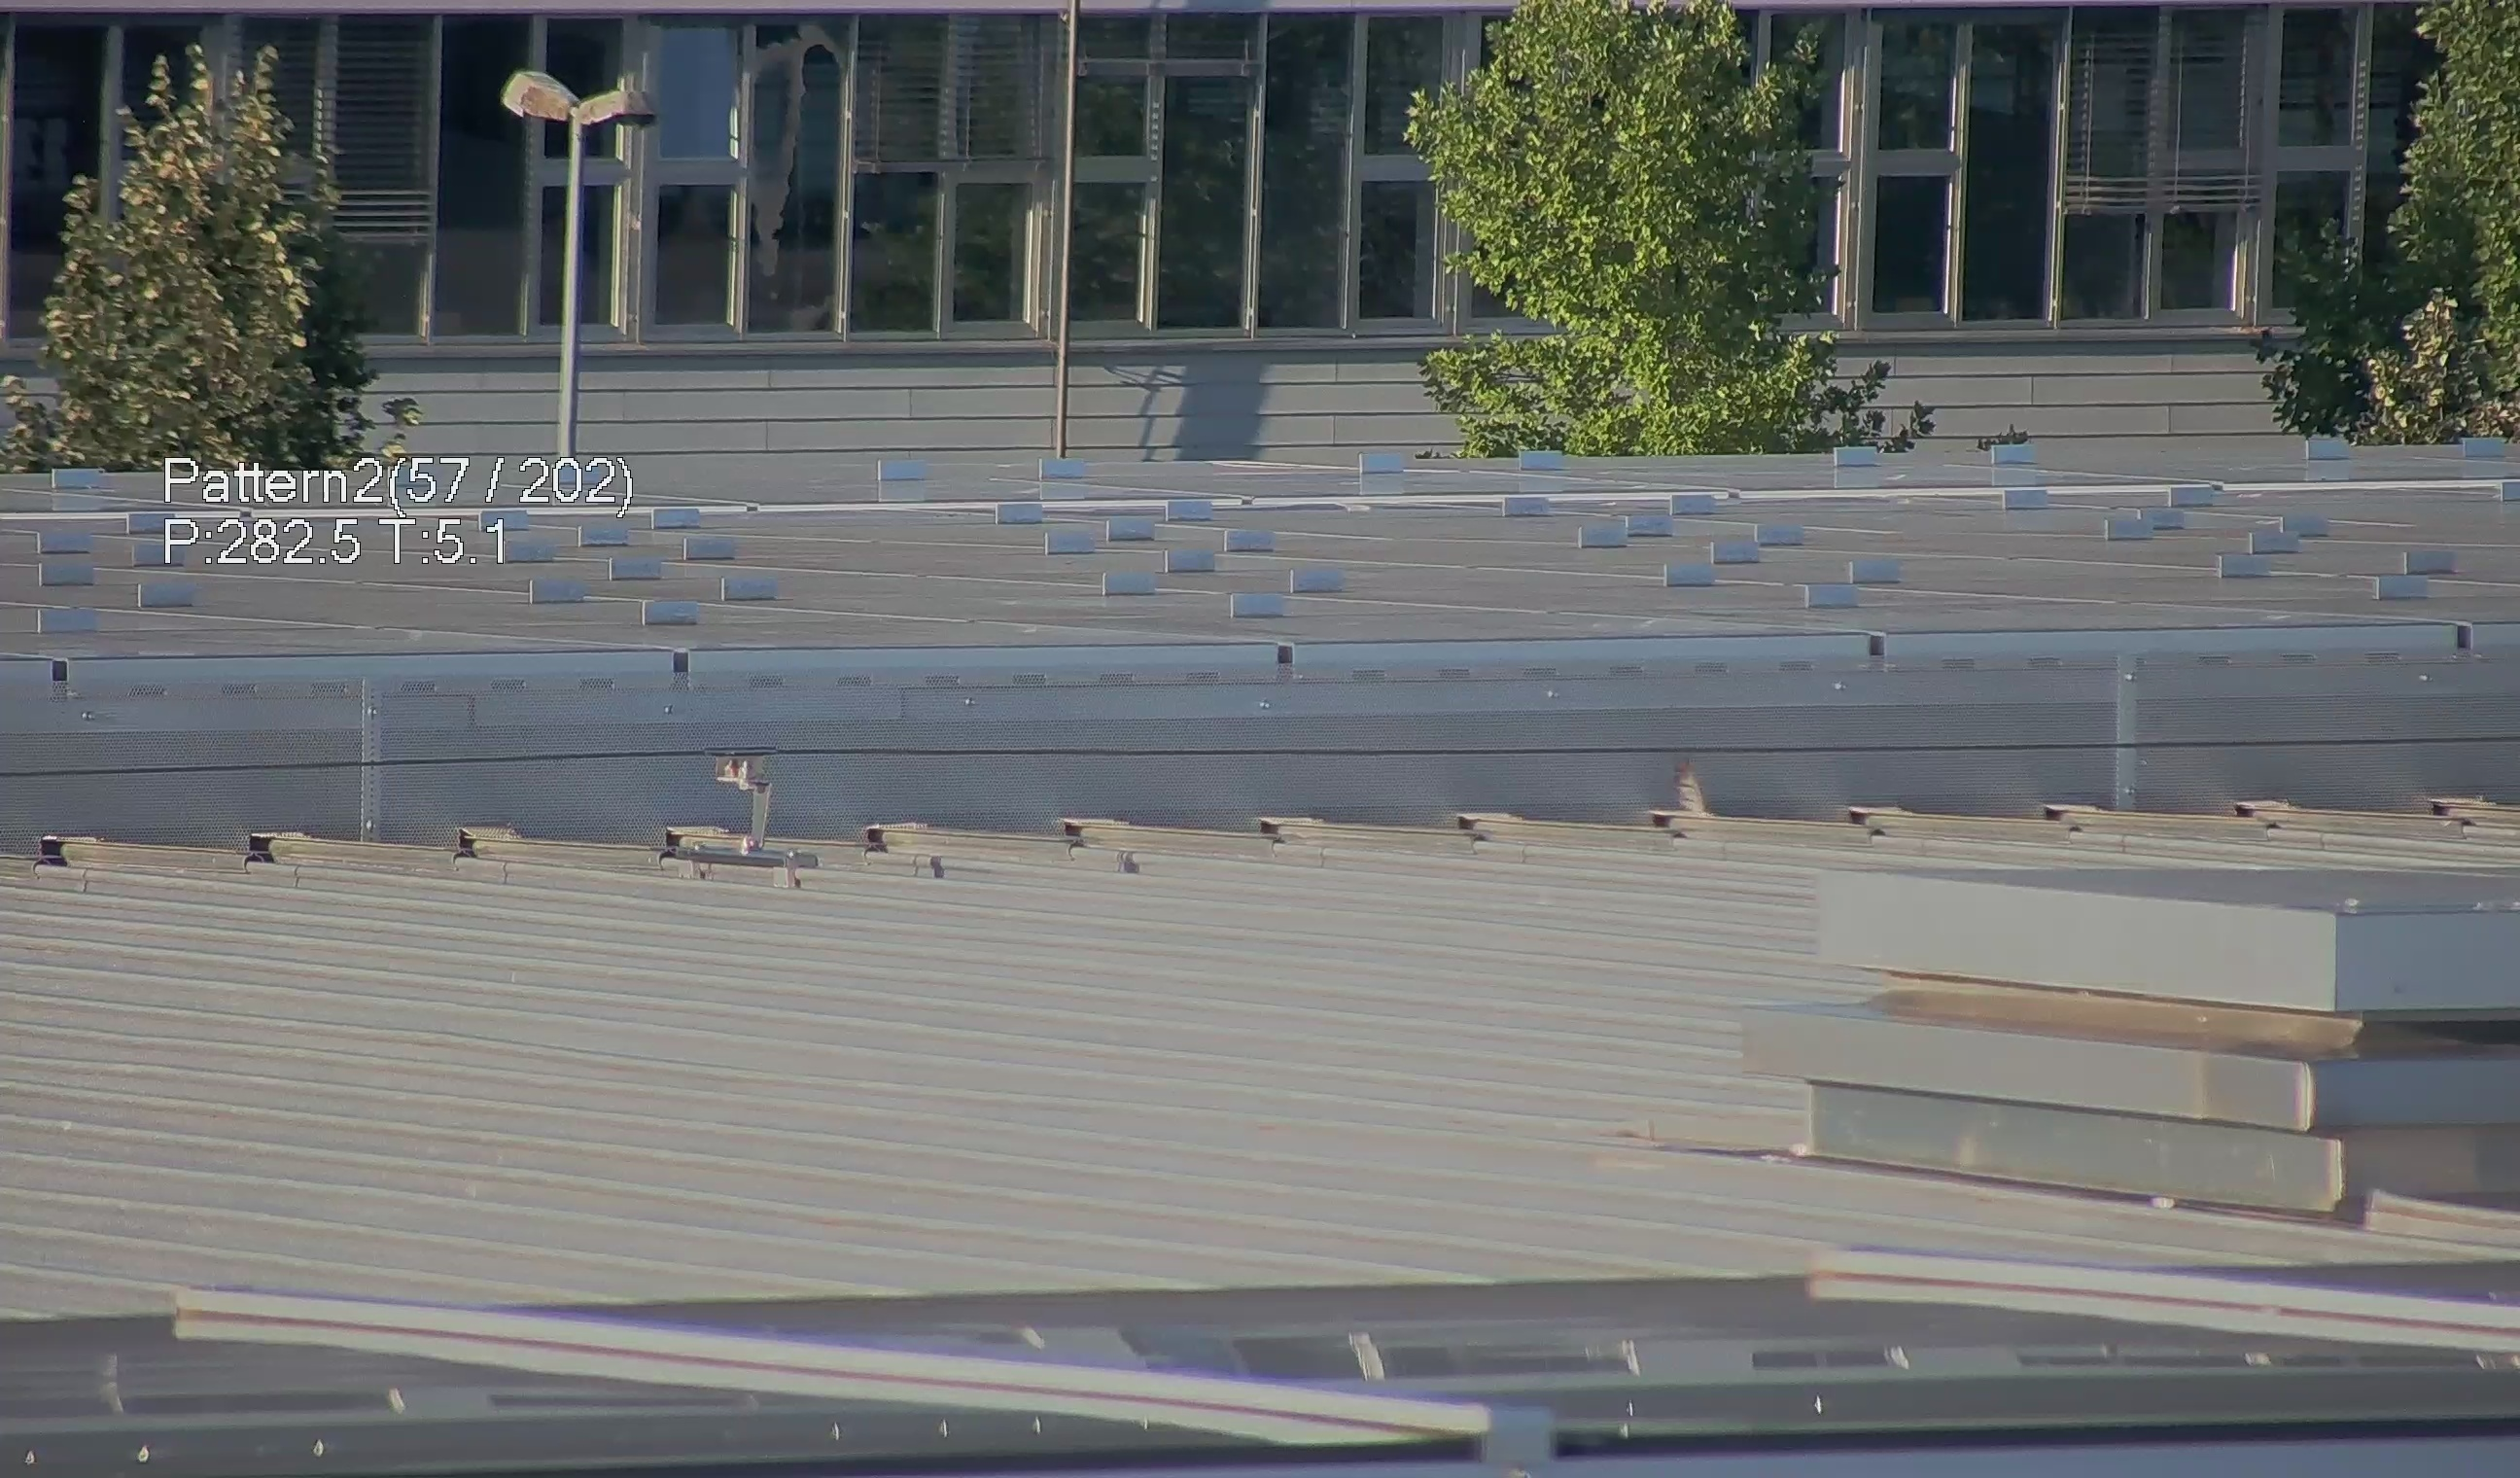Other: (1653, 741, 1722, 841)
